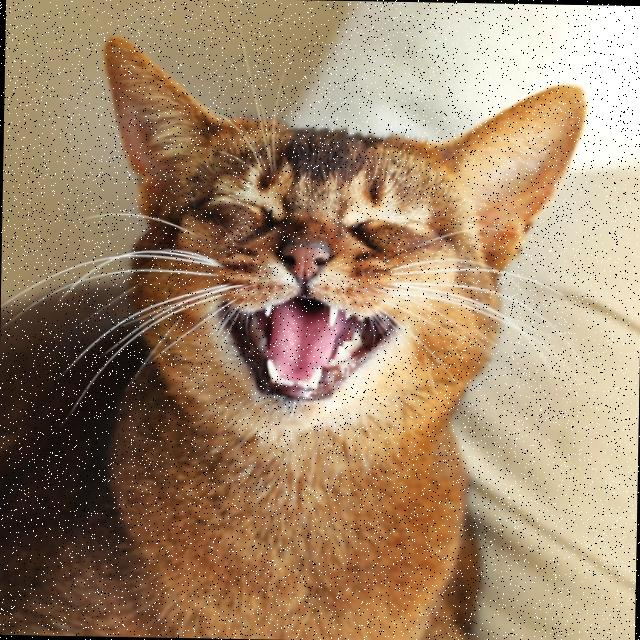Happy: (154, 166, 460, 447)
